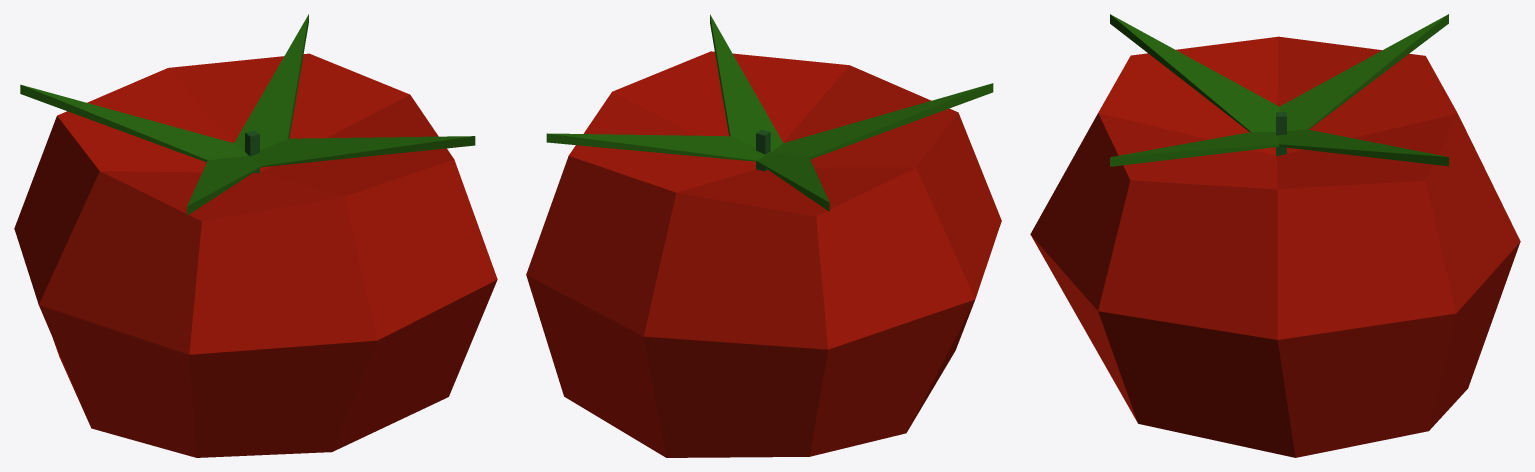
File: tomate.fbx
The picture shows the model from 3 angles, left to right: view 1: azimuth 30°, elevation 25°; view 2: azimuth 150°, elevation 25°; view 3: azimuth 270°, elevation 25°; orthographic projection. The views are drawn at different scales.
Visible parts, largest first — view 1: Cube.001; view 2: Cube.001; view 3: Cube.001.
Boxes of the visible parts, <box> form: Cube.001: <box>14,14,497,457</box>; Cube.001: <box>526,14,1001,457</box>; Cube.001: <box>1030,14,1520,457</box>.
Size of the model in its own units: 62.83 by 42.35 by 61.1.
